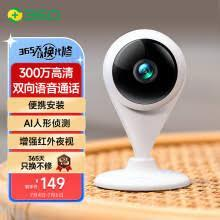maru: (97, 28, 188, 122)
